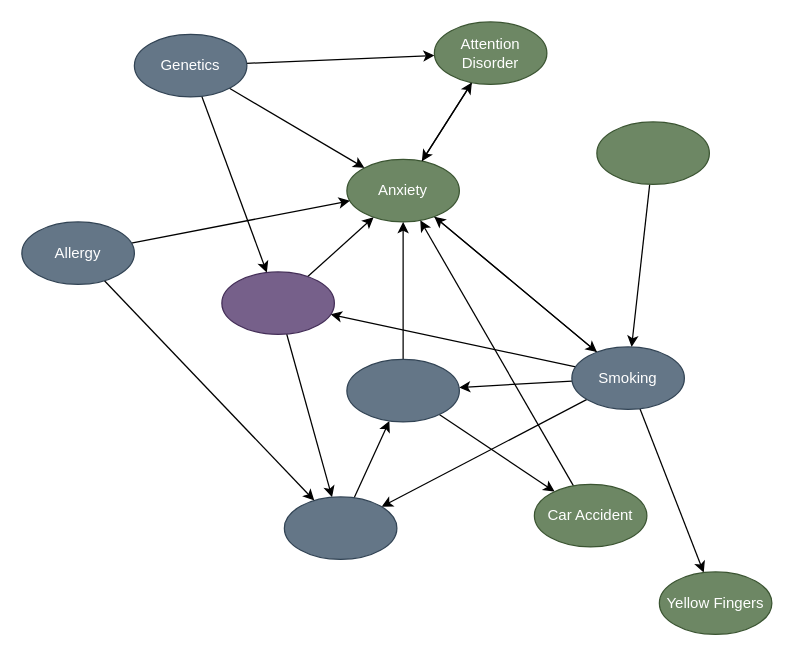
This 794x656 diagram has some shape labels left out. Each missing label, with the box of its shape:
Coughing: (283, 496, 397, 559)
Fatigue: (346, 358, 459, 422)
Lung Cancer: (221, 271, 334, 334)
Peer pressure: (596, 121, 709, 184)
